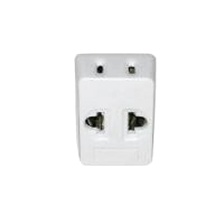three_eye_plug: (71, 50, 159, 174)
